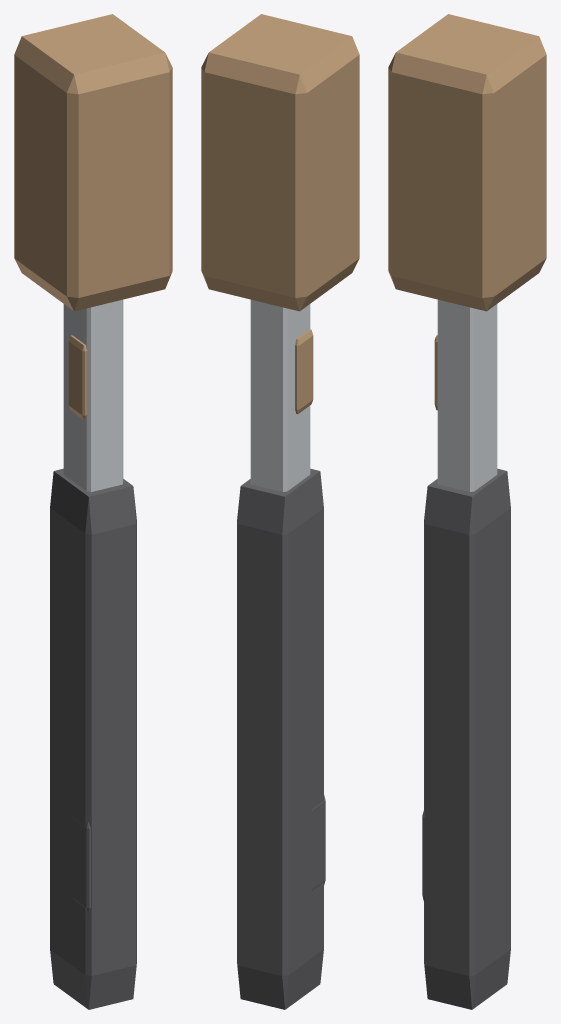
Rendered from b06_wood_rasp.glb.
3 views of the same model, side by side, from view 1: azimuth 30°, elevation 25°; view 2: azimuth 150°, elevation 25°; view 3: azimuth 330°, elevation 25° (orthographic).
Visible parts, largest first — view 1: b06_wood_rasp; view 2: b06_wood_rasp; view 3: b06_wood_rasp.
Part boxes in pixels (x1,y1,x2,y2): b06_wood_rasp: [14, 14, 172, 1009]; b06_wood_rasp: [201, 14, 359, 1009]; b06_wood_rasp: [388, 14, 546, 1009].
Bounding box in the file's own units: 0.038 × 0.325 × 0.038.
